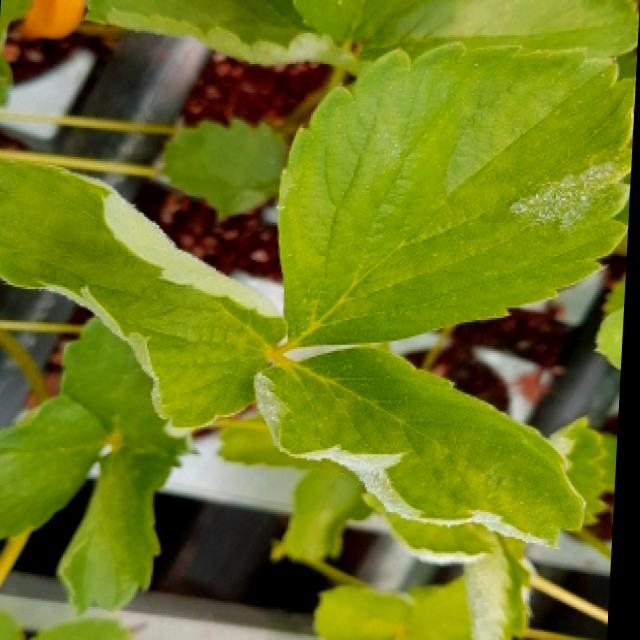Powdery Mildew Leaf: (278, 39, 637, 348), (0, 156, 290, 431), (254, 346, 594, 548), (367, 492, 501, 565), (470, 531, 536, 640), (597, 271, 629, 372)
